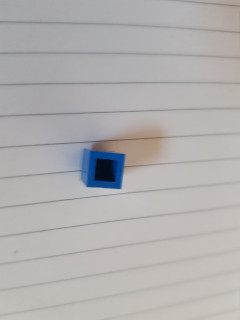1x1 blue: (80, 148, 126, 190)
